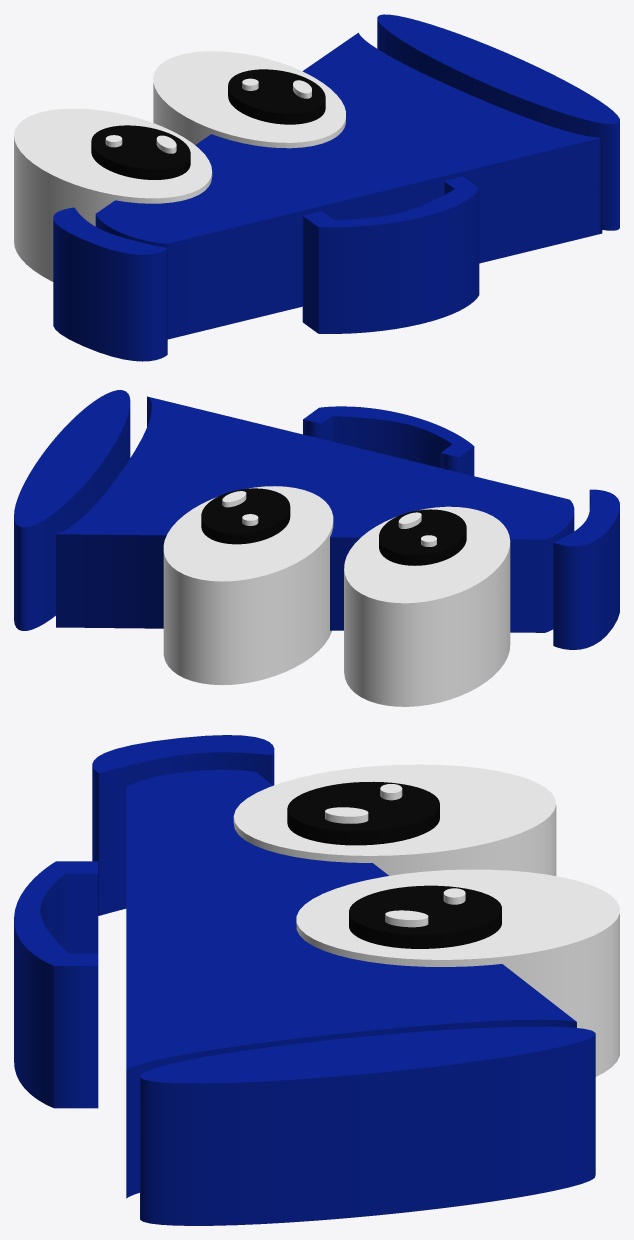
Rendered from NoisyBE.fbx.
The picture shows the model from 3 angles, top to bottom: view 1: azimuth 30°, elevation 25°; view 2: azimuth 150°, elevation 25°; view 3: azimuth 270°, elevation 25°; orthographic projection. The views are drawn at different scales.
Parts seen in each view (by area): view 1: NoisyBE, Eyes, Curve.004, Curve.003, Curve.002, LPupil, RPupil; view 2: Eyes, NoisyBE, Curve.002, Curve.003, Curve.004, RPupil, LPupil; view 3: Curve.002, NoisyBE, Eyes, Curve.004, Curve.003, RPupil, LPupil.
Part boxes in pixels (<box>): NoisyBE: <box>95,32,602,339</box>; Eyes: <box>14,51,345,281</box>; Curve.004: <box>302,176,479,333</box>; Curve.003: <box>53,207,167,361</box>; Curve.002: <box>377,14,619,230</box>; LPupil: <box>91,125,190,179</box>; RPupil: <box>228,69,325,124</box>; Eyes: <box>163,486,510,706</box>; NoisyBE: <box>56,396,574,632</box>; Curve.002: <box>14,390,130,630</box>; Curve.003: <box>553,489,619,649</box>; Curve.004: <box>303,406,474,475</box>; RPupil: <box>201,488,290,544</box>; LPupil: <box>379,509,466,565</box>; Curve.002: <box>140,1026,595,1225</box>; NoisyBE: <box>126,769,576,1198</box>; Eyes: <box>233,764,619,1076</box>; Curve.004: <box>14,861,98,1108</box>; Curve.003: <box>92,735,274,915</box>; RPupil: <box>349,885,501,948</box>; LPupil: <box>287,781,439,845</box>.
Size of the model in its own units: 141 by 35.08 by 104.
